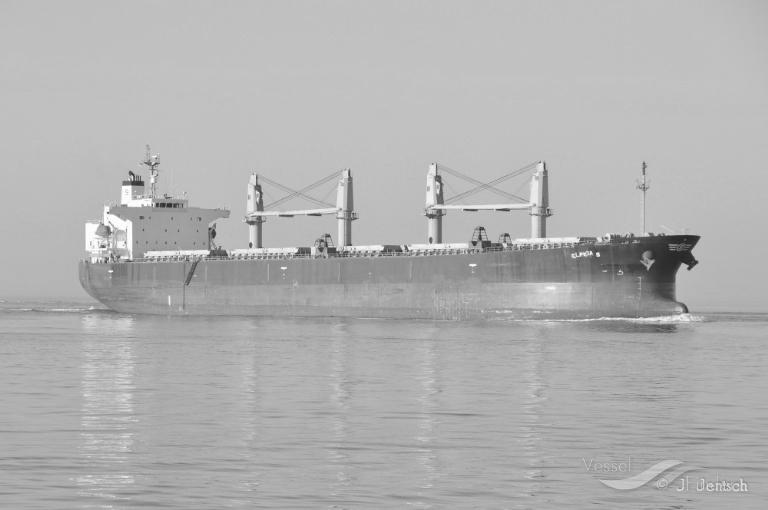OCR: (568, 243, 596, 261)
